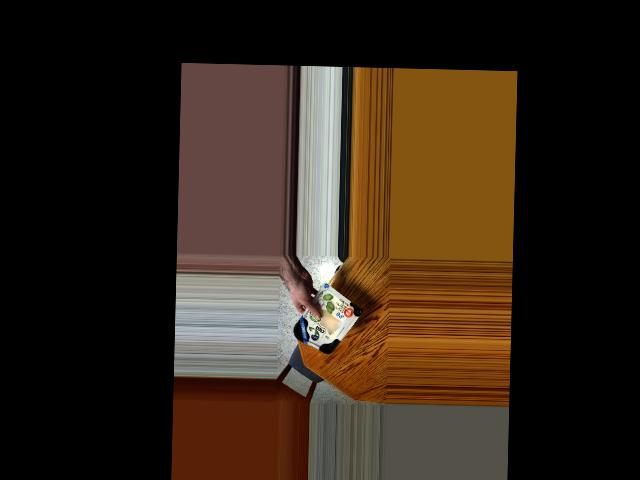cheese: (288, 293, 358, 351)
